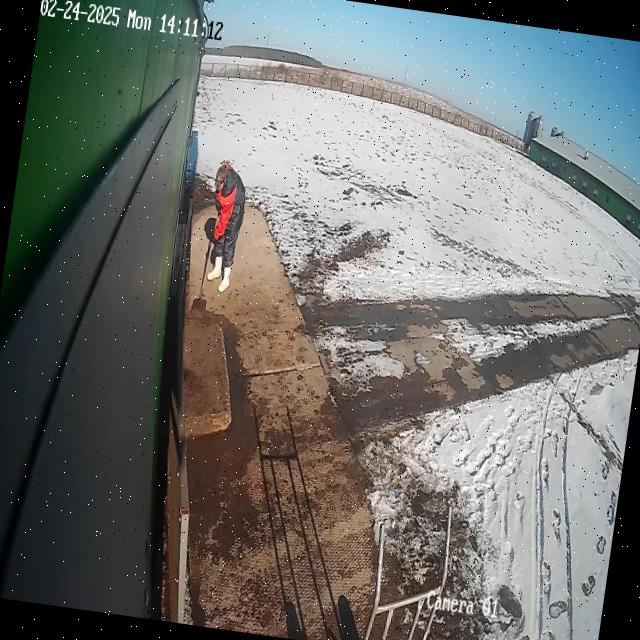Red uniform: (206, 161, 245, 292)
